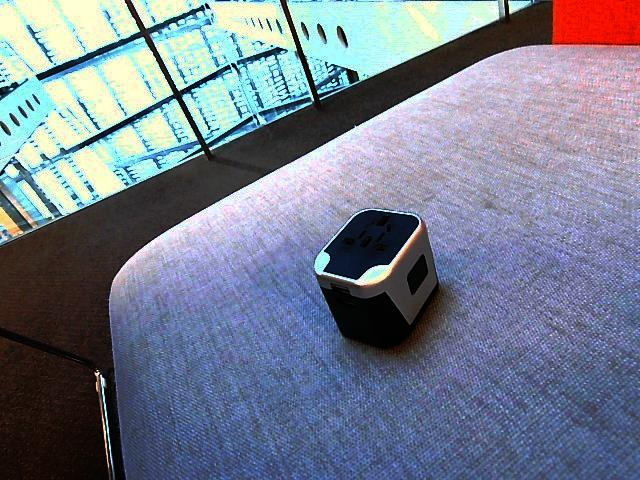adapter: (312, 208, 440, 348)
